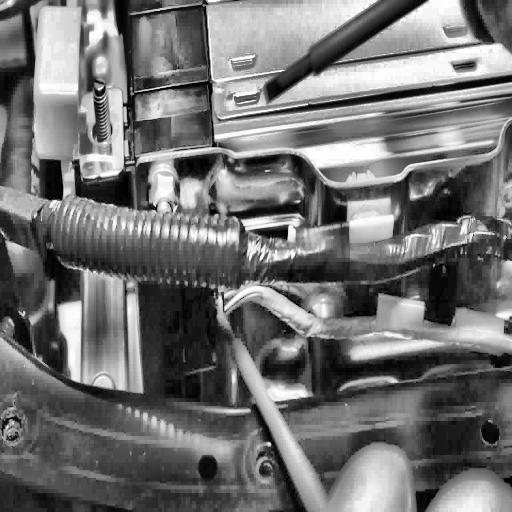high_volt_cable: (225, 285, 510, 360)
low_volt_cable: (3, 180, 510, 292)
nut: (146, 167, 182, 220)
